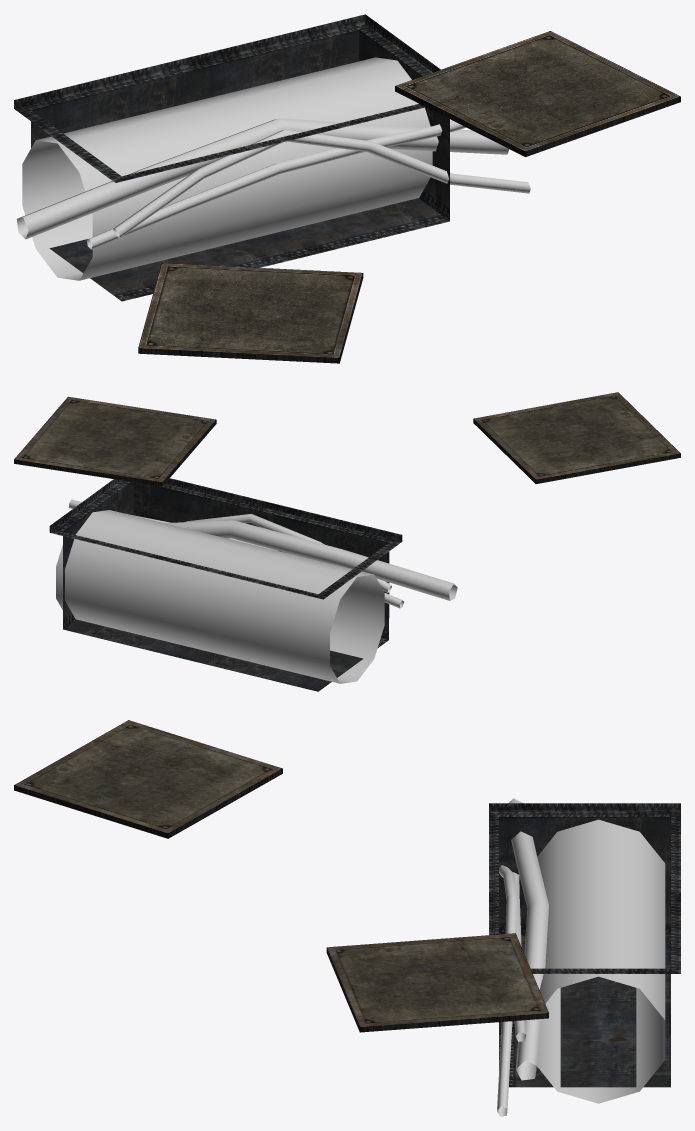
The model's file is tunnels_floor_open02.DAE.
The picture shows the model from 3 angles, top to bottom: view 1: azimuth 30°, elevation 25°; view 2: azimuth 150°, elevation 25°; view 3: azimuth 270°, elevation 25°; orthographic projection. The views are drawn at different scales.
Parts seen in each view (by area): view 1: floor_pipe_small, floor_tiles_small, floor_pipe_housing_small, floor_cables_small; view 2: floor_pipe_small, floor_tiles_small, floor_pipe_housing_small, floor_cables_small; view 3: floor_tiles_small, floor_pipe_small, floor_pipe_housing_small, floor_cables_small.
Boxes of the visible parts, left/top/right/bottom form: floor_pipe_small: left=22, top=57, right=432, bottom=280; floor_tiles_small: left=138, top=31, right=680, bottom=363; floor_pipe_housing_small: left=14, top=14, right=449, bottom=301; floor_cables_small: left=16, top=118, right=530, bottom=249; floor_pipe_small: left=56, top=510, right=384, bottom=683; floor_tiles_small: left=14, top=392, right=680, bottom=486; floor_pipe_housing_small: left=49, top=478, right=402, bottom=691; floor_cables_small: left=68, top=499, right=457, bottom=608; floor_tiles_small: left=14, top=720, right=548, bottom=1032; floor_pipe_small: left=537, top=819, right=665, bottom=1103; floor_pipe_housing_small: left=489, top=803, right=680, bottom=1087; floor_cables_small: left=497, top=798, right=548, bottom=1116.
Size of the model in its own units: 1.89 by 1.74 by 0.4132.
